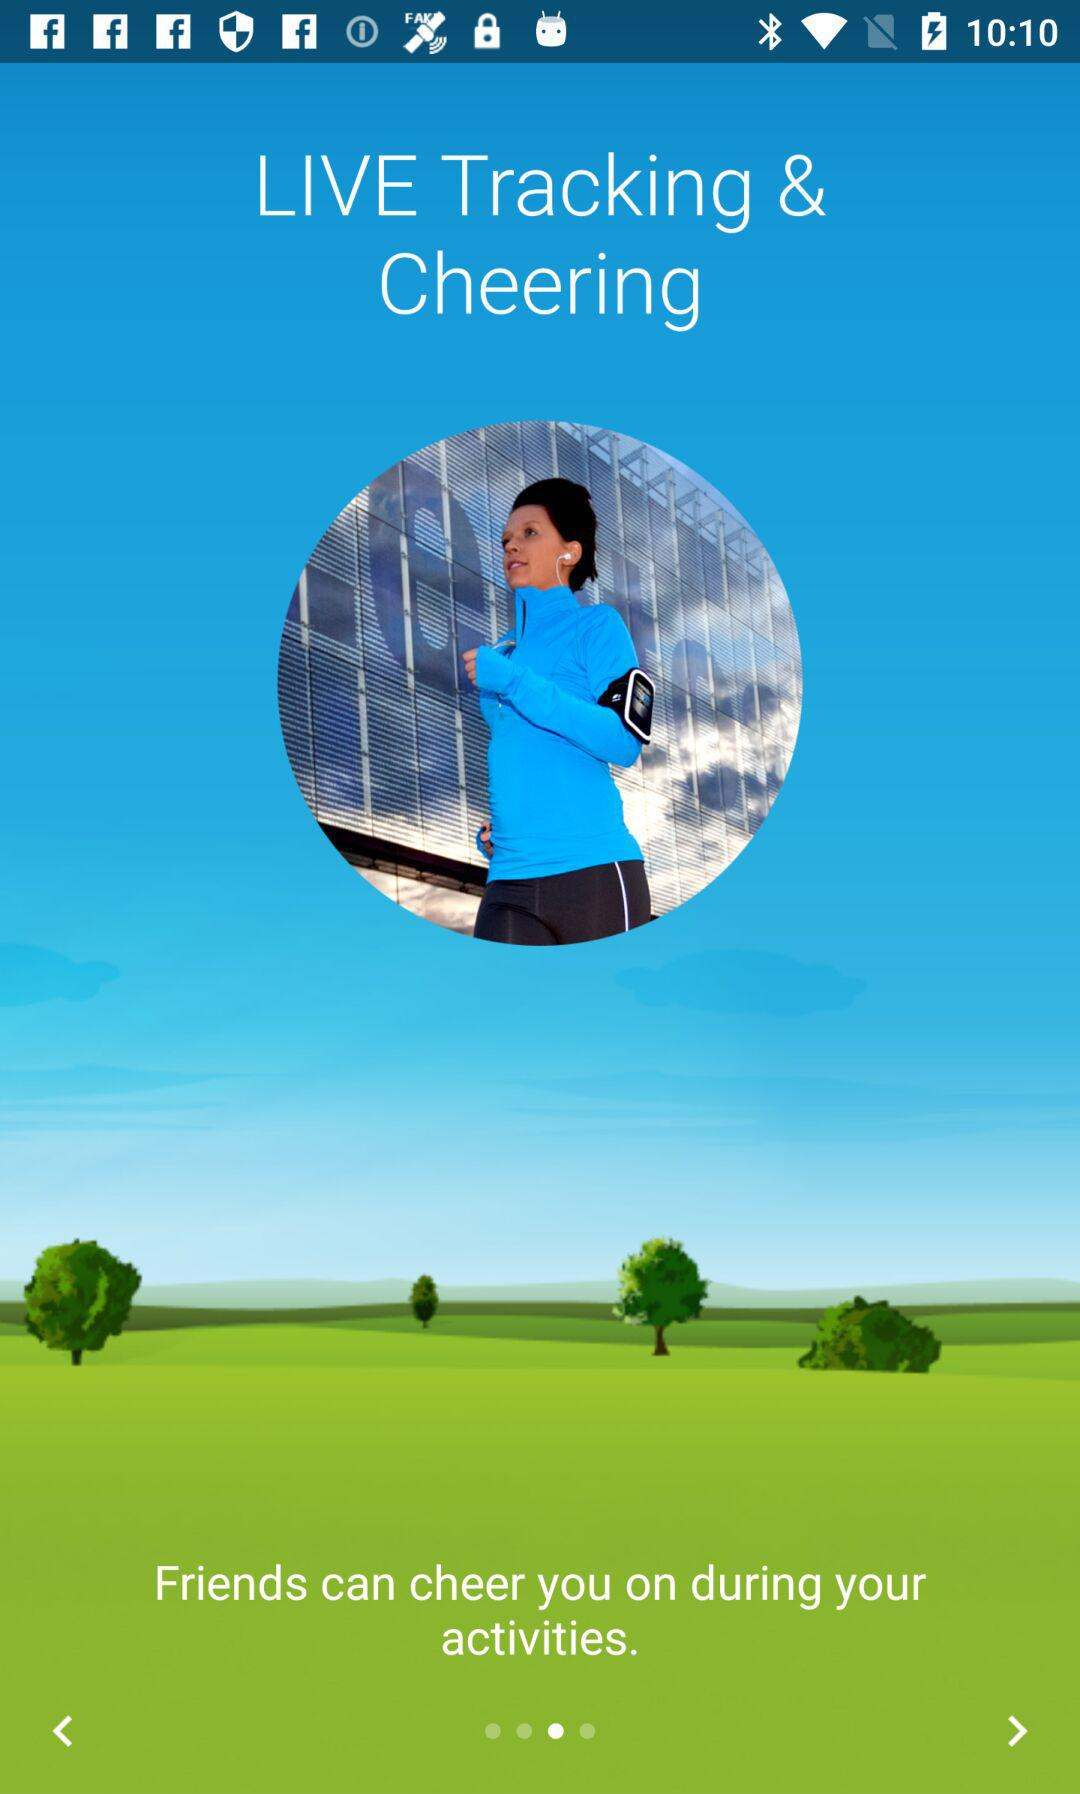BackgroundImage: (1, 64, 1080, 1794)
Icon: (53, 1715, 76, 1748), (1007, 1715, 1029, 1749)
Image: (277, 422, 805, 946)
PageIndicator: (483, 1721, 598, 1741)
Text: (259, 151, 828, 334), (158, 1563, 928, 1657)
UpperTaskBar: (1, 1, 1080, 64)
